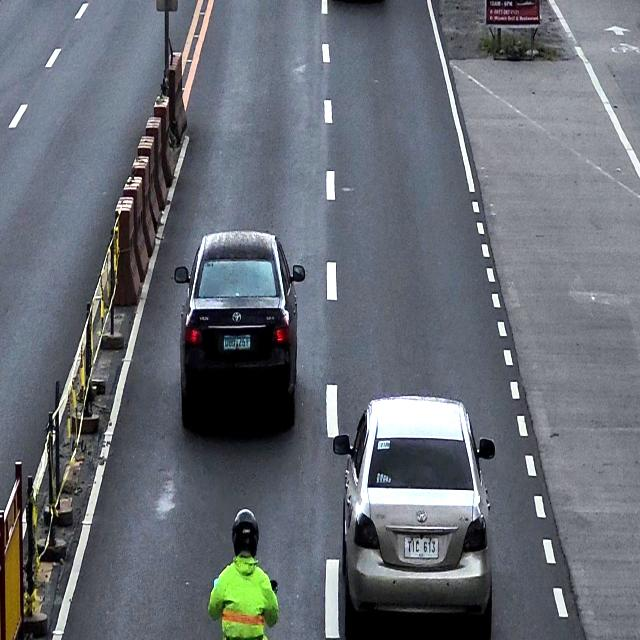Car: (332, 394, 496, 625), (174, 229, 306, 426)
License-Plate: (403, 536, 439, 560), (221, 333, 252, 351)
